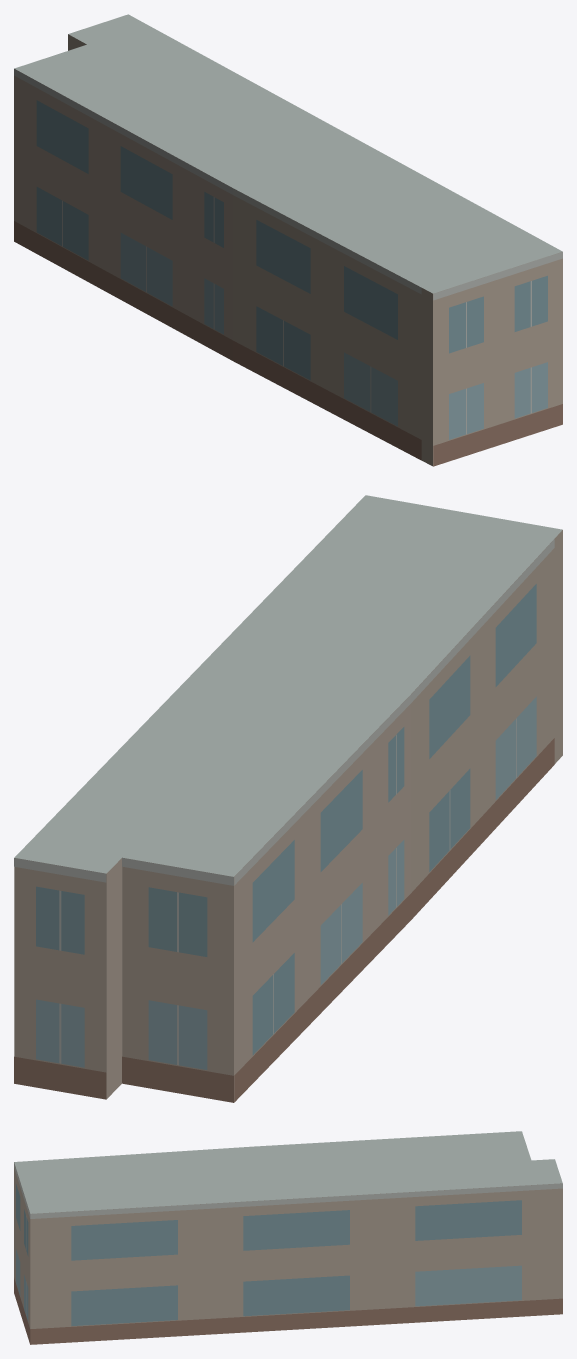
Rendered from survey-upis-32776834.glb.
The picture shows the model from 3 angles, top to bottom: view 1: azimuth 30°, elevation 25°; view 2: azimuth 150°, elevation 25°; view 3: azimuth 270°, elevation 25°; orthographic projection. The views are drawn at different scales.
Parts seen in each view (by area): view 1: survey-upis-32776834.tmp; view 2: survey-upis-32776834.tmp; view 3: survey-upis-32776834.tmp.
Part boxes in pixels (bbox=[...]): survey-upis-32776834.tmp: bbox=[14, 14, 562, 466]; survey-upis-32776834.tmp: bbox=[14, 495, 562, 1102]; survey-upis-32776834.tmp: bbox=[14, 1131, 562, 1344].
Bounding box in the file's own units: 8.28 × 6.1 × 23.18.
